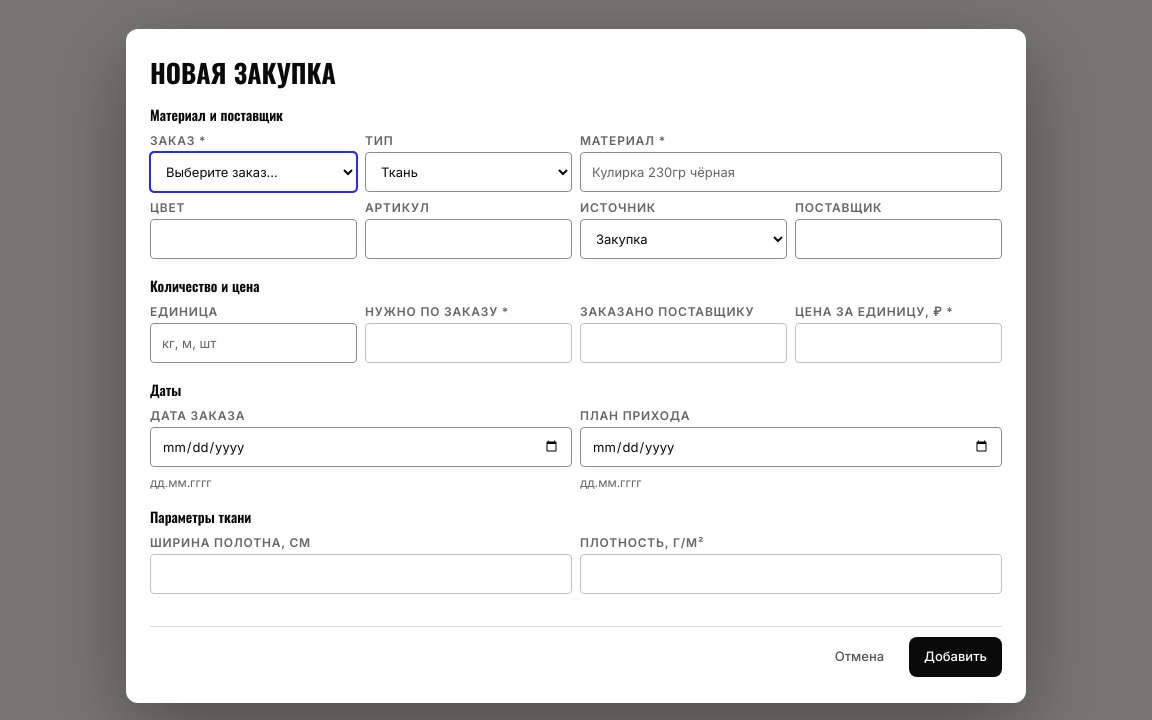
Test: AddPurchaseModal — правка 05.10 › у фурнитуры нет ни параметров ткани, ни сетки
Select "Фурнитура" in the dropdown named "Тип материала" at (468, 172), box [365,152,572,192]
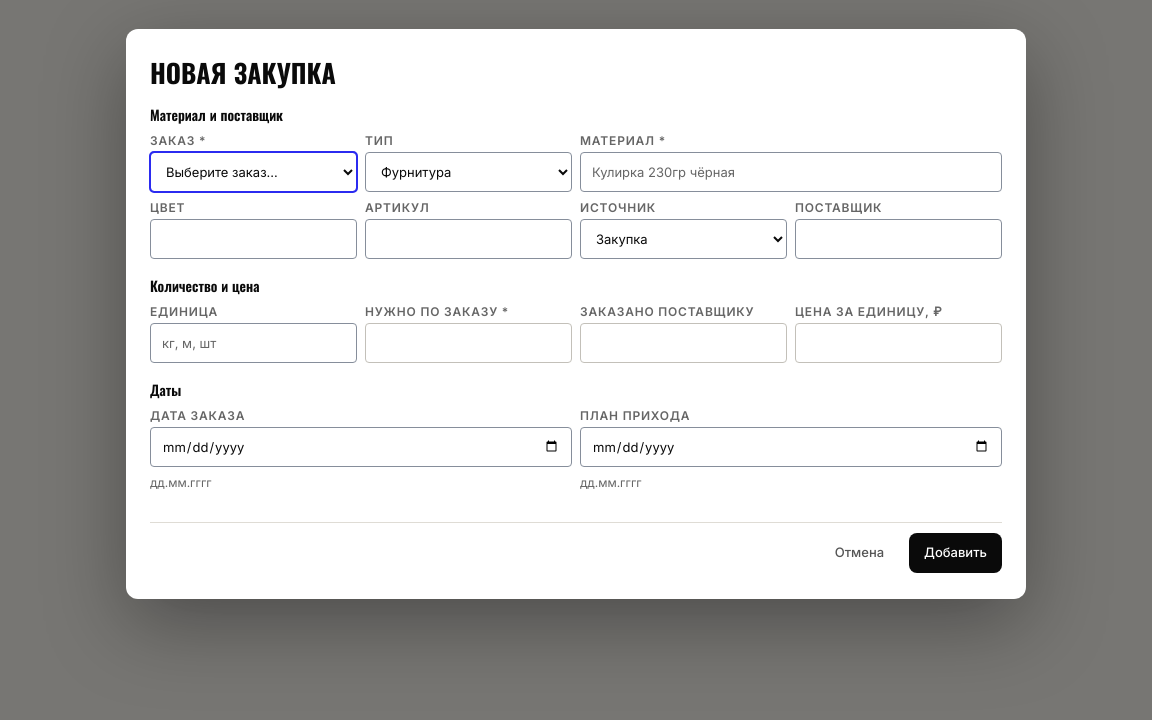
expect the text "Параметры ткани" is gone: met
